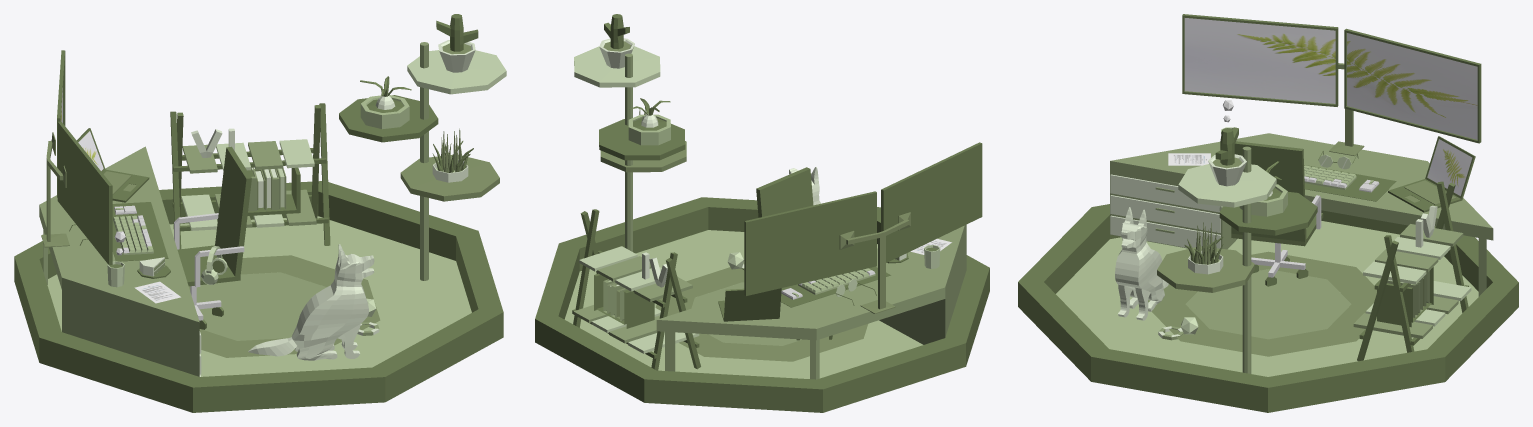
File: workspace.glb
3 renders of one model, left to right at view 1: azimuth 30°, elevation 25°; view 2: azimuth 150°, elevation 25°; view 3: azimuth 270°, elevation 25°, orthographic. The views are drawn at different scales.
Parts seen in each view (by area): view 1: base, dog, books, headphones, name, coffee, resume; view 2: base, books, name; view 3: base, dog, books, name, resume.
Part boxes in pixels (<box>): base: <box>14,14,506,412</box>; dog: <box>248,244,374,360</box>; books: <box>247,167,300,215</box>; headphones: <box>201,246,227,284</box>; name: <box>191,128,234,157</box>; coffee: <box>107,231,125,287</box>; resume: <box>134,281,180,303</box>; base: <box>535,14,989,412</box>; books: <box>594,273,654,328</box>; name: <box>642,252,667,287</box>; base: <box>1018,14,1518,412</box>; dog: <box>1115,207,1168,320</box>; books: <box>1377,267,1433,327</box>; name: <box>1415,205,1437,247</box>; resume: <box>1168,153,1210,165</box>.
Size of the model in its own units: 2 by 1.16 by 2.
Materials: 9 (2 with a texture image).
